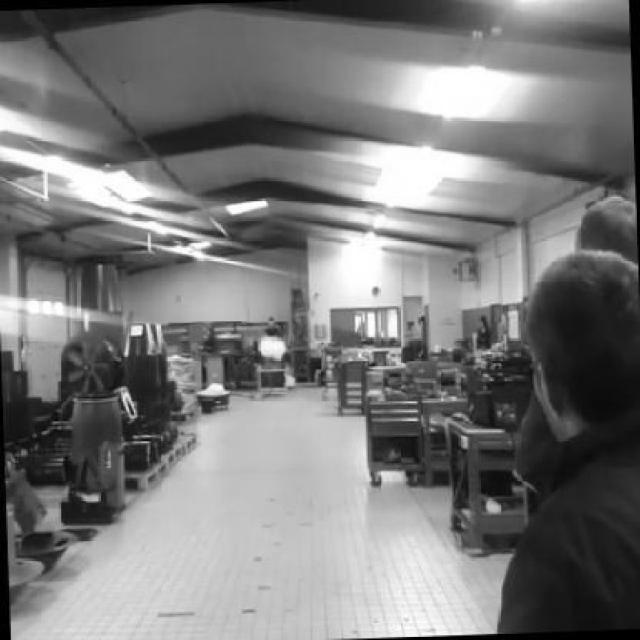fire: (254, 333, 288, 362)
